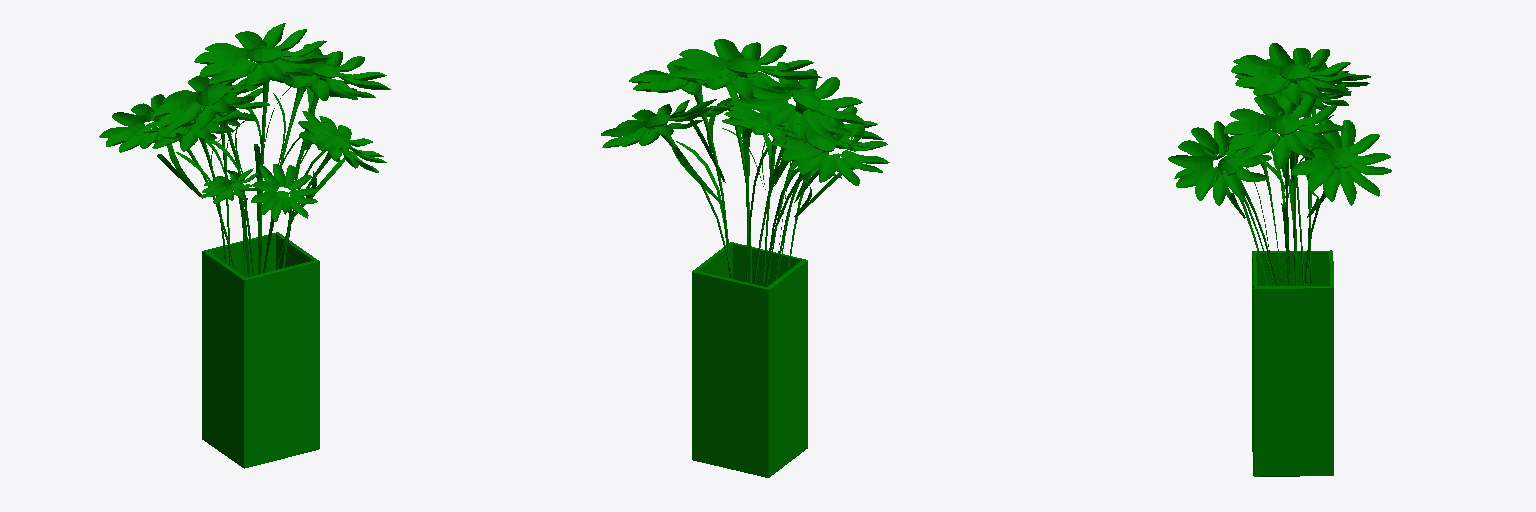
The model's file is jojo.obj.
The picture shows the model from 3 angles: view 1: azimuth 30°, elevation 25°; view 2: azimuth 150°, elevation 25°; view 3: azimuth 270°, elevation 25°; orthographic projection.
Parts seen in each view (by area): view 1: skp764C_001; view 2: skp764C_001; view 3: skp764C_001.
Boxes of the visible parts, x1,y1,x2,y2 form: skp764C_001: [99, 23, 390, 468]; skp764C_001: [601, 39, 889, 477]; skp764C_001: [1168, 43, 1391, 476].
Size of the model in its own units: 298 by 426 by 219.